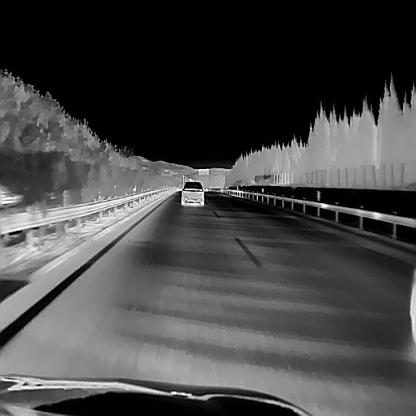car: (180, 180, 204, 206)
